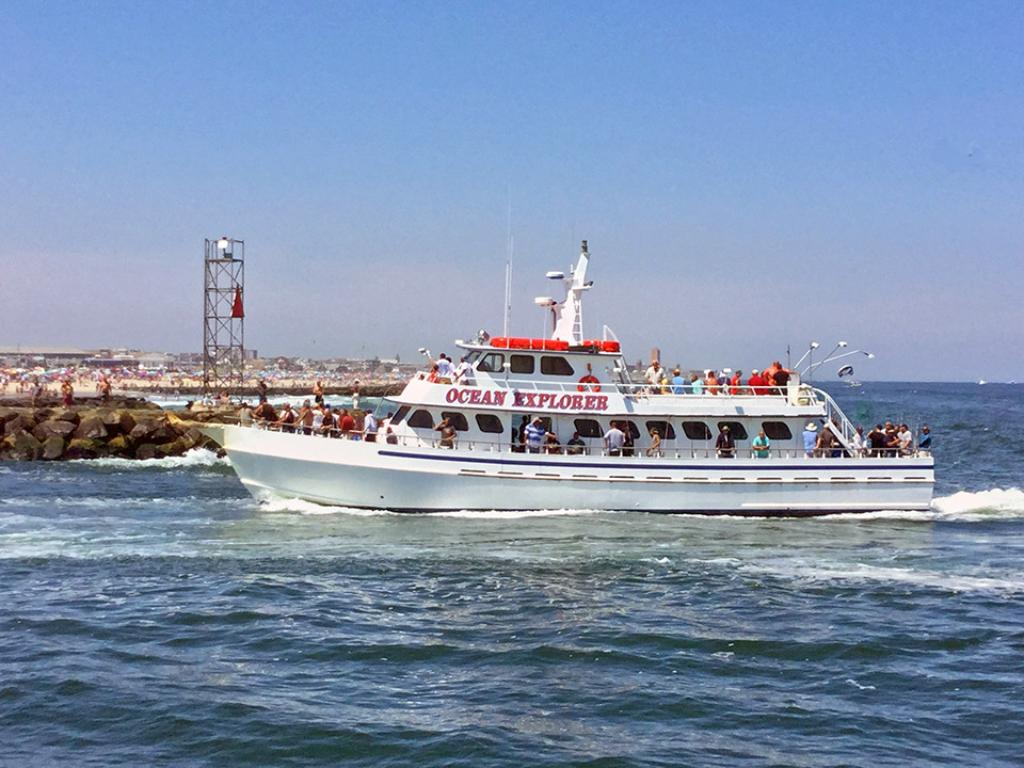PassengerShip: (193, 250, 961, 524)
